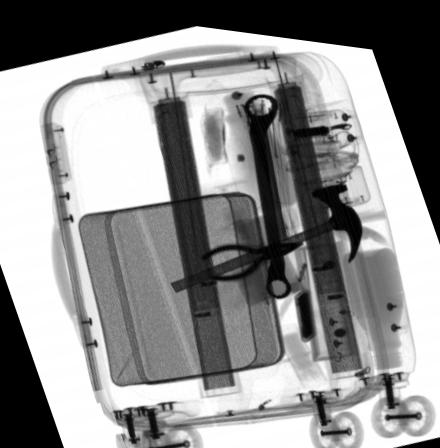Hammer: (168, 172, 361, 288)
Pliers: (197, 230, 304, 273)
Powerbank: (292, 276, 316, 335)
Wrench: (242, 85, 291, 291)
